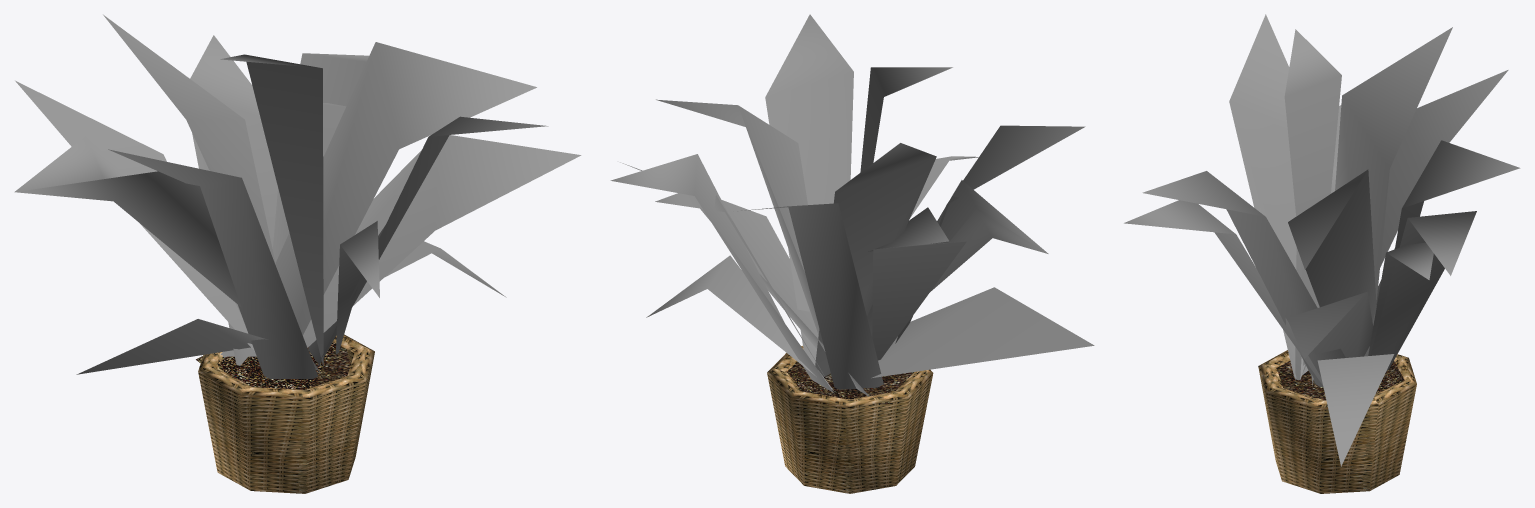
File: Fern_leaf_grass_lod2.fbx
3 renders of one model, left to right at view 1: azimuth 30°, elevation 25°; view 2: azimuth 150°, elevation 25°; view 3: azimuth 270°, elevation 25°, orthographic. The views are drawn at different scales.
Visible parts, largest first — view 1: Fern_leaf_grass_lod2; view 2: Fern_leaf_grass_lod2; view 3: Fern_leaf_grass_lod2.
Boxes of the visible parts, x1,y1,x2,y2 form: Fern_leaf_grass_lod2: (14, 14, 581, 493); Fern_leaf_grass_lod2: (610, 14, 1094, 493); Fern_leaf_grass_lod2: (1124, 14, 1520, 493).
Size of the model in its own units: 56 by 46.17 by 41.12.
2 materials, 1 textured.
